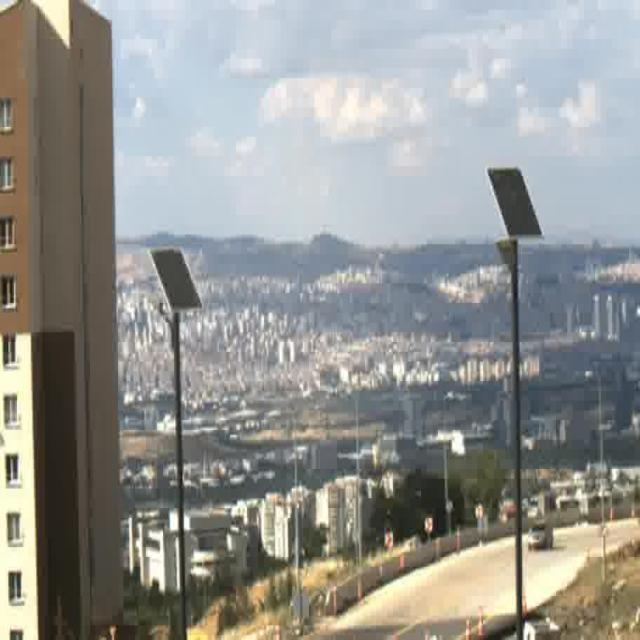Car: (528, 520, 554, 551)
